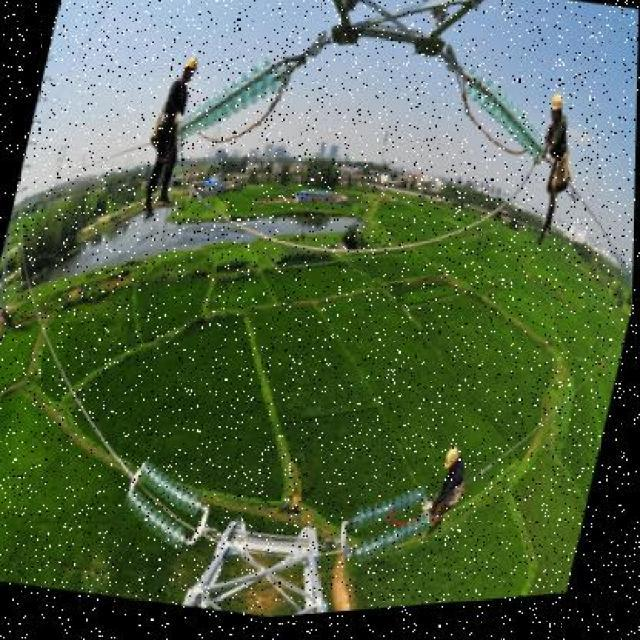helmet: (435, 446, 467, 485), (175, 52, 201, 84), (545, 100, 569, 126)
